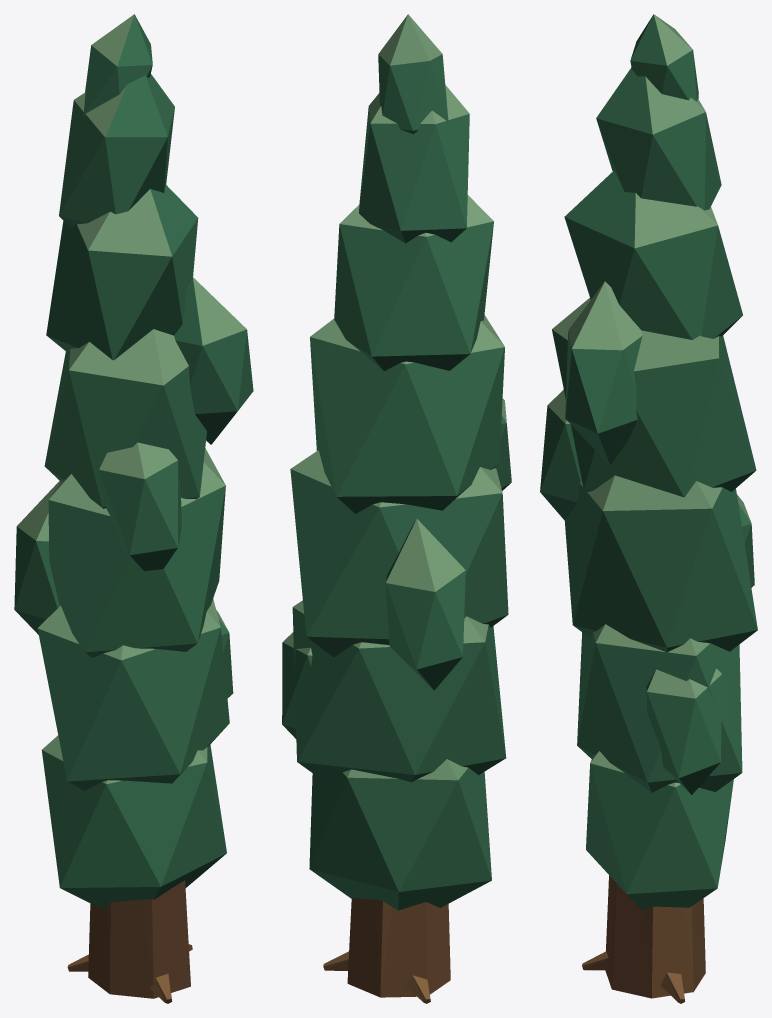
3 renders of one model, left to right at view 1: azimuth 30°, elevation 25°; view 2: azimuth 150°, elevation 25°; view 3: azimuth 270°, elevation 25°, orthographic.
Parts seen in each view (by area): view 1: WK_Tree_Cypress_AncientDark_LOD0_High; view 2: WK_Tree_Cypress_AncientDark_LOD0_High; view 3: WK_Tree_Cypress_AncientDark_LOD0_High.
Part boxes in pixels (<box>): WK_Tree_Cypress_AncientDark_LOD0_High: <box>14,14,253,1003</box>; WK_Tree_Cypress_AncientDark_LOD0_High: <box>282,14,511,1003</box>; WK_Tree_Cypress_AncientDark_LOD0_High: <box>540,14,757,1003</box>.
Size of the model in its own units: 1.55 by 7.09 by 1.46.
